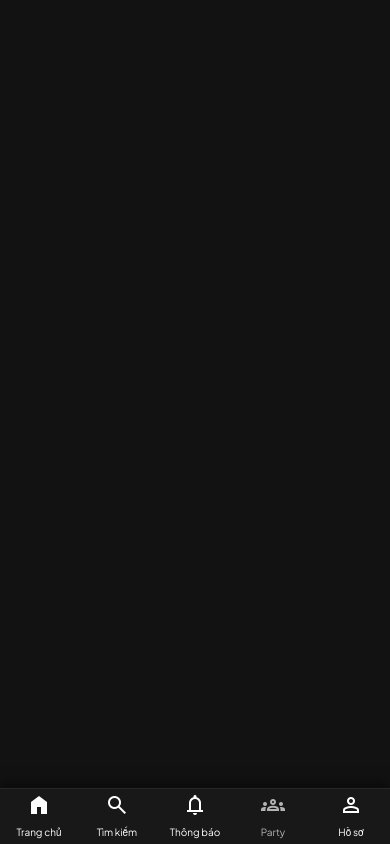
Test: MobileNav — party modal › clicking Party button opens CreateRoomModal
Click the button "Party".
click(273, 816)  # box [234,789,312,843]
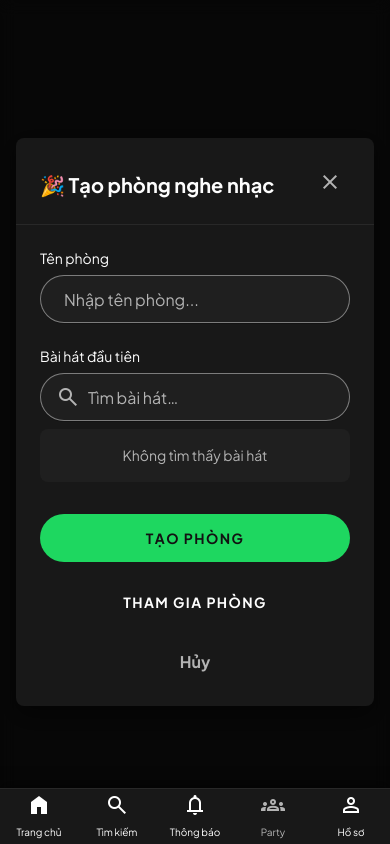
Now the heading "🎉 Tạo phòng nghe nhạc" is shown, box [40,170,274,200]
